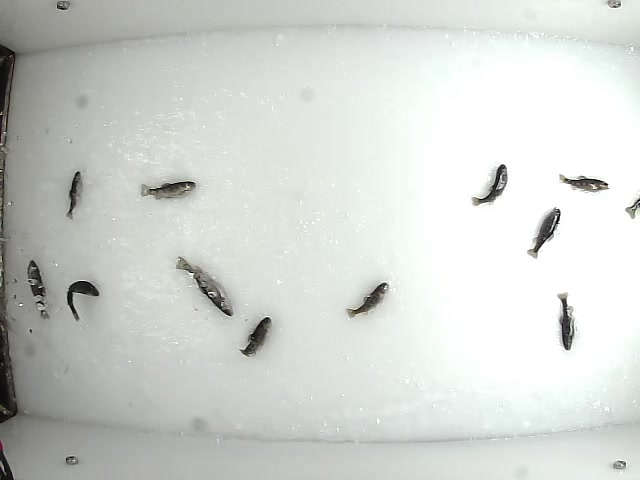fish: (174, 255, 236, 318), (524, 206, 561, 262), (344, 278, 391, 321), (468, 159, 508, 209), (24, 257, 53, 321), (65, 278, 101, 323), (238, 315, 272, 360), (553, 289, 577, 352), (138, 177, 196, 201), (554, 172, 609, 194), (63, 168, 83, 220)
